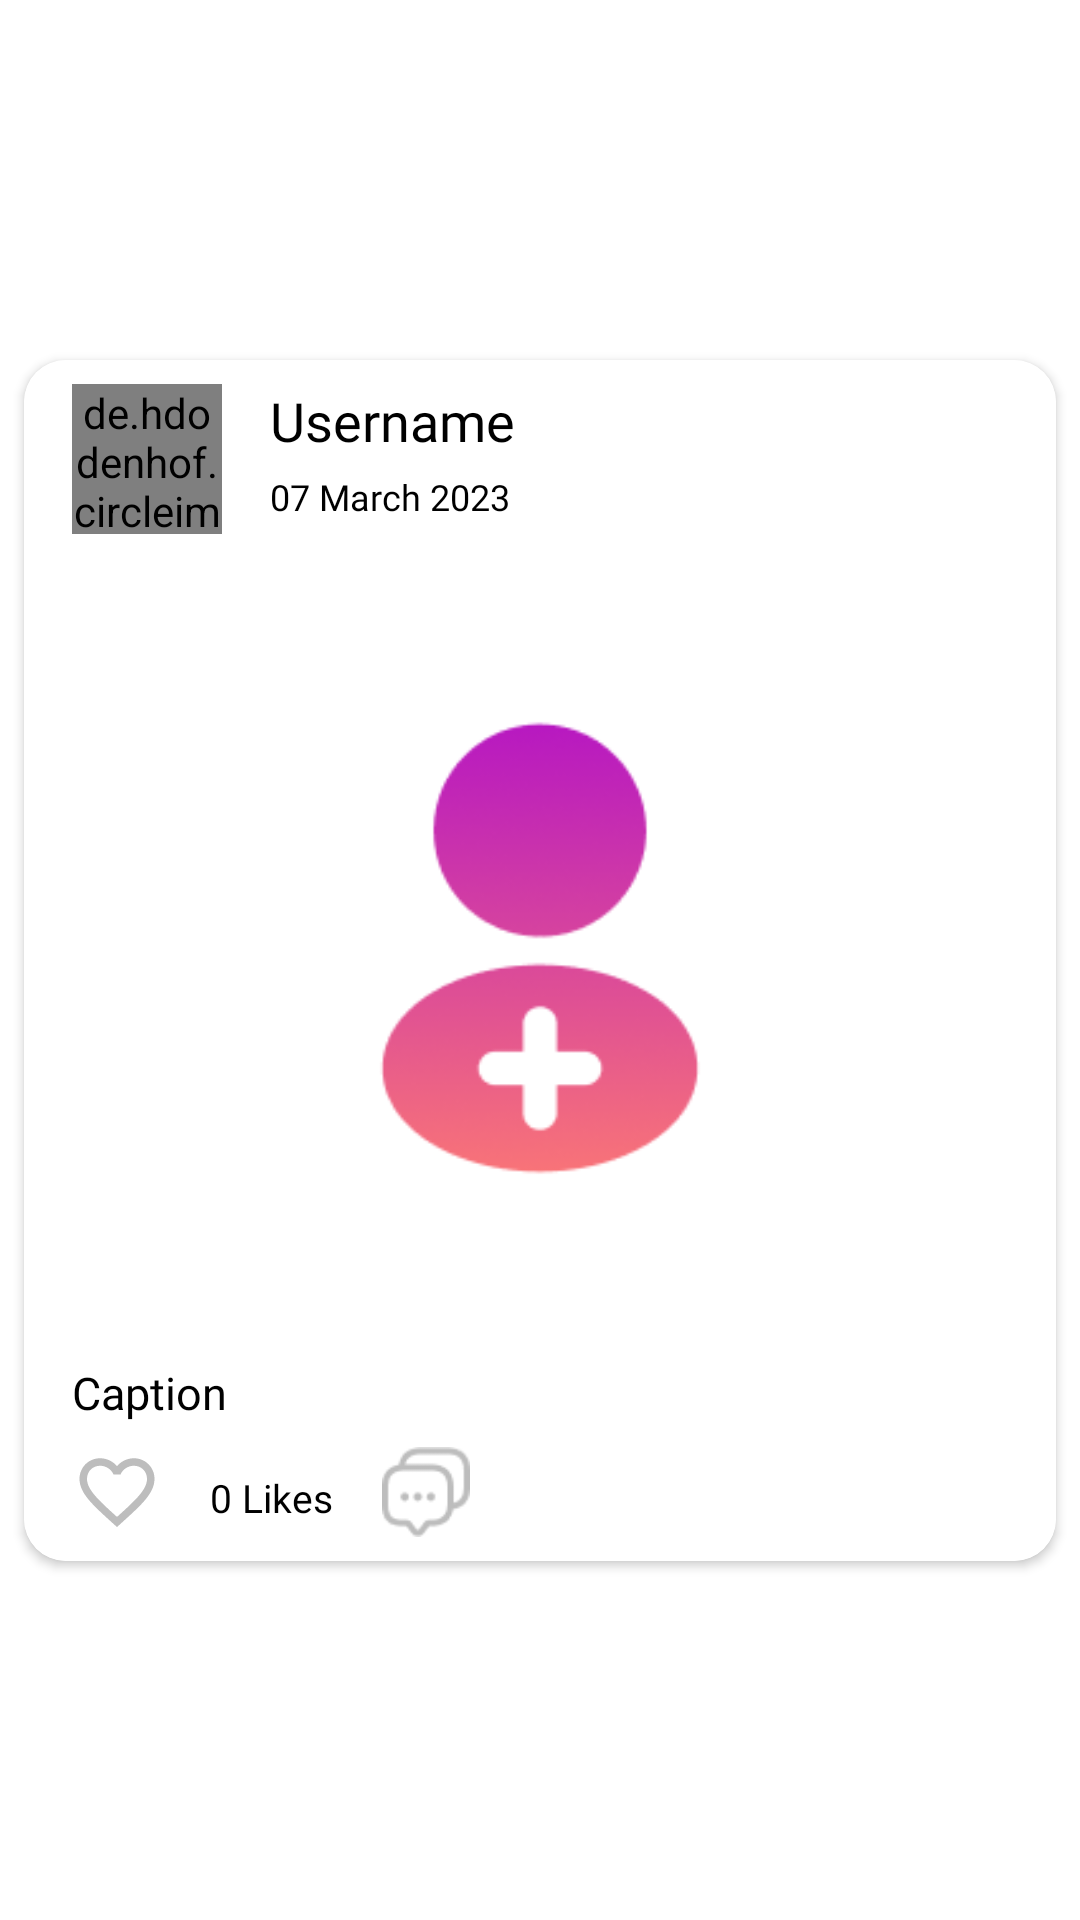

Named icons in this screenshot (1080w x 1920h) and their bounding boxes, (x1, y1, x2, y2):
comment: (382, 1447, 470, 1537)
favorite border: (79, 1458, 155, 1527)
